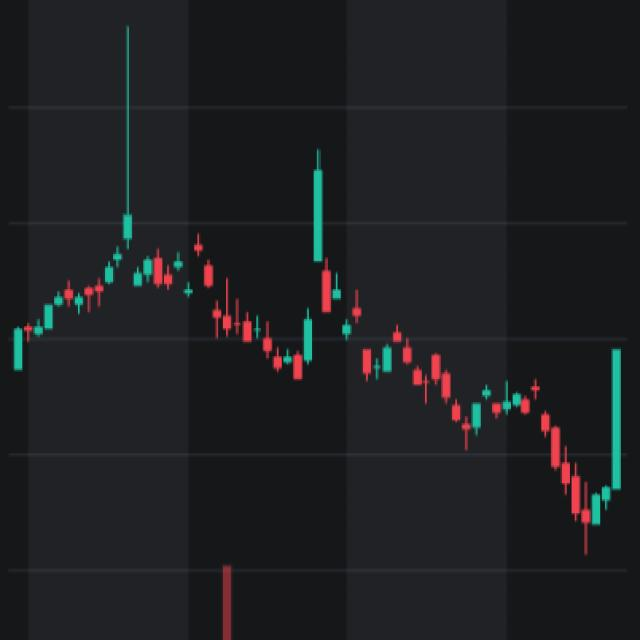Support-breakout: (6, 214, 598, 526)
